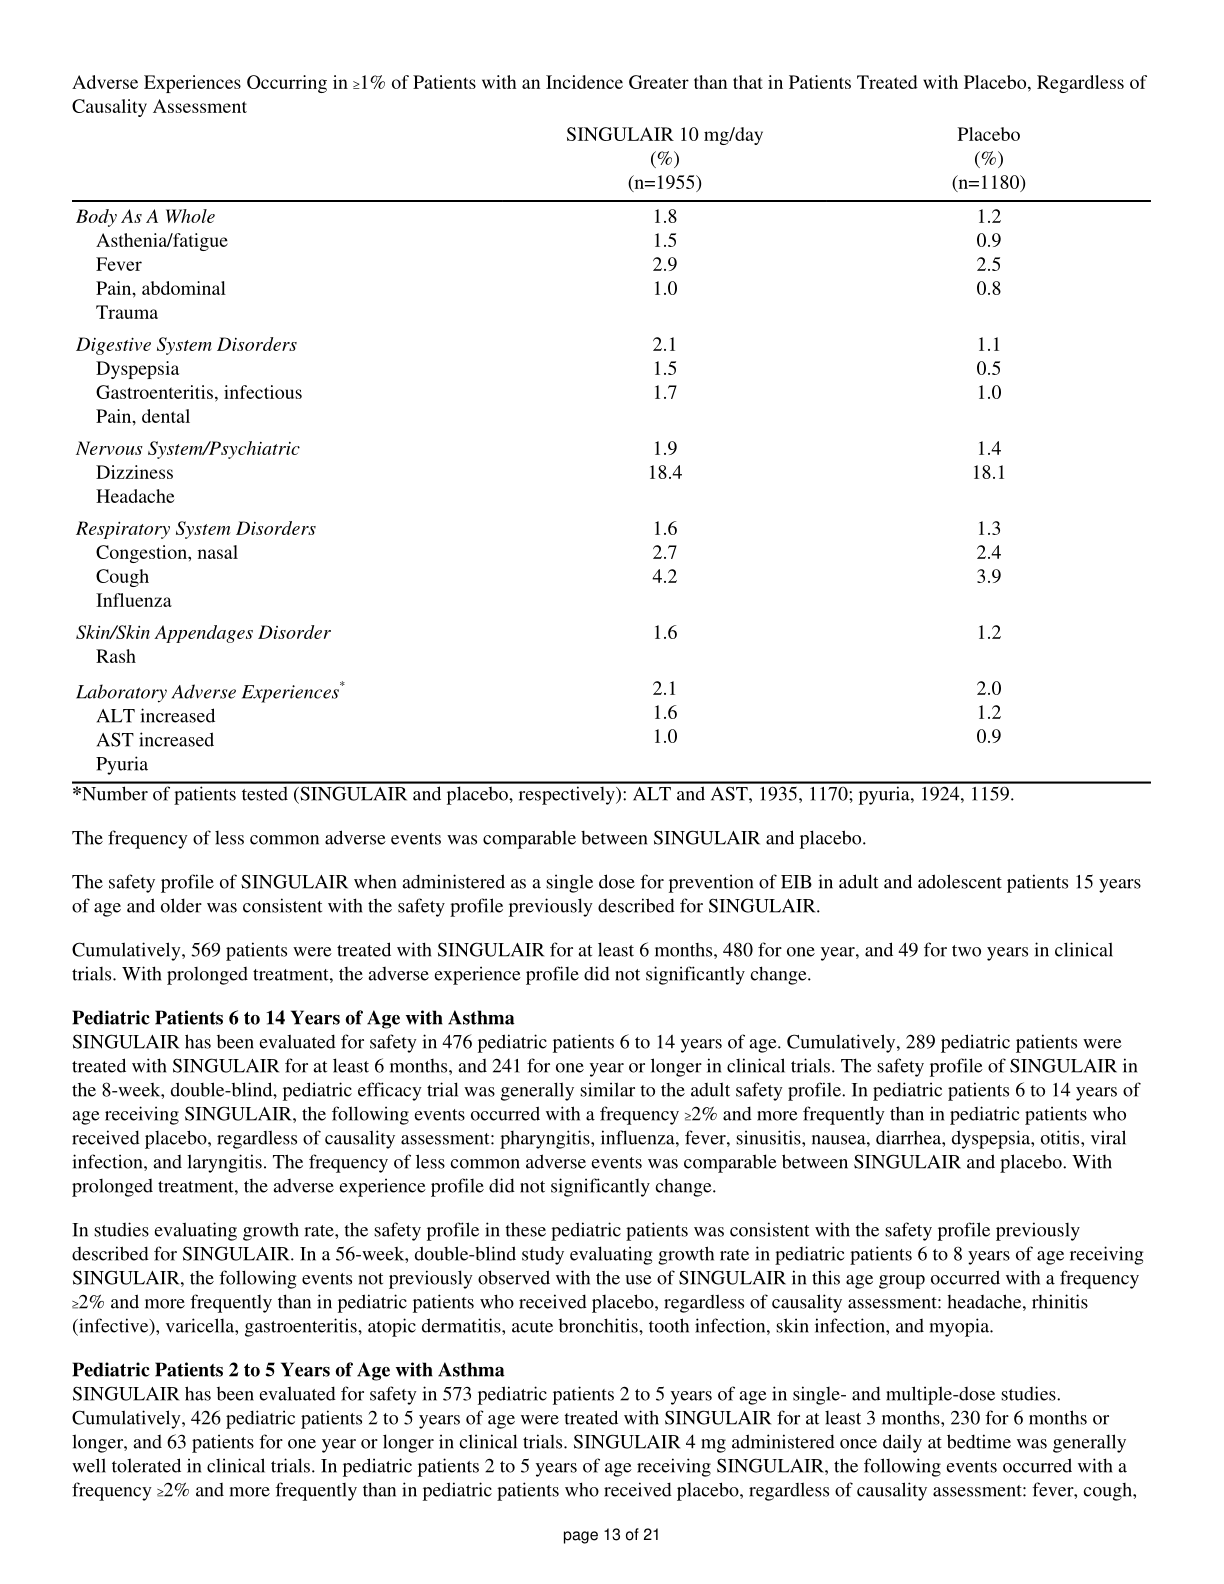partial_lined: (69, 123, 1151, 783)
